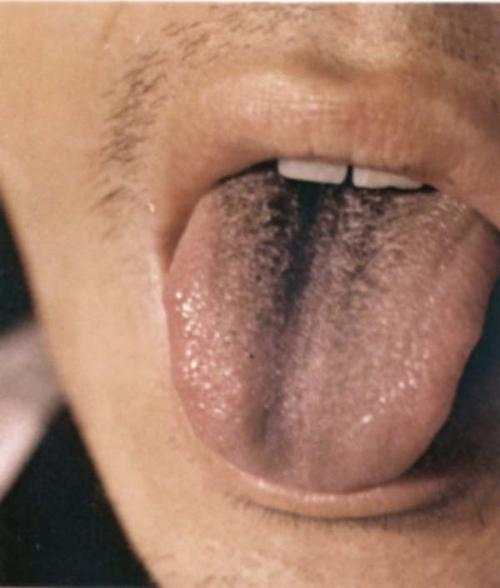heitaishe: (162, 162, 499, 492)
